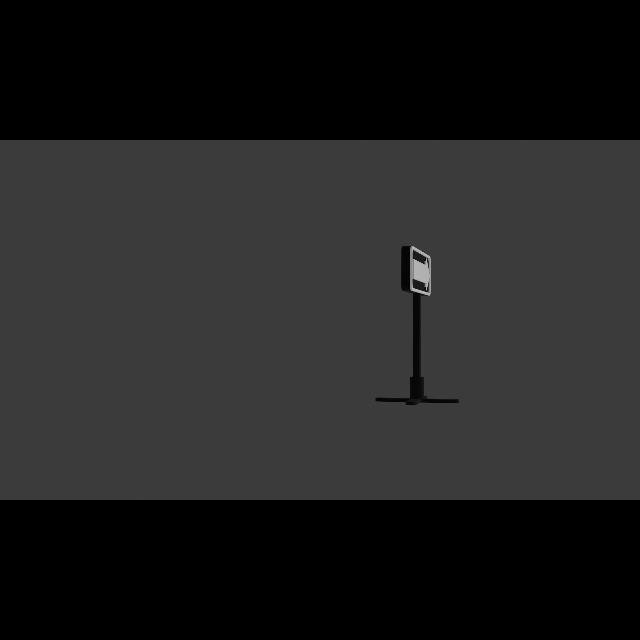sign_oneway_right: (404, 248, 434, 299)
